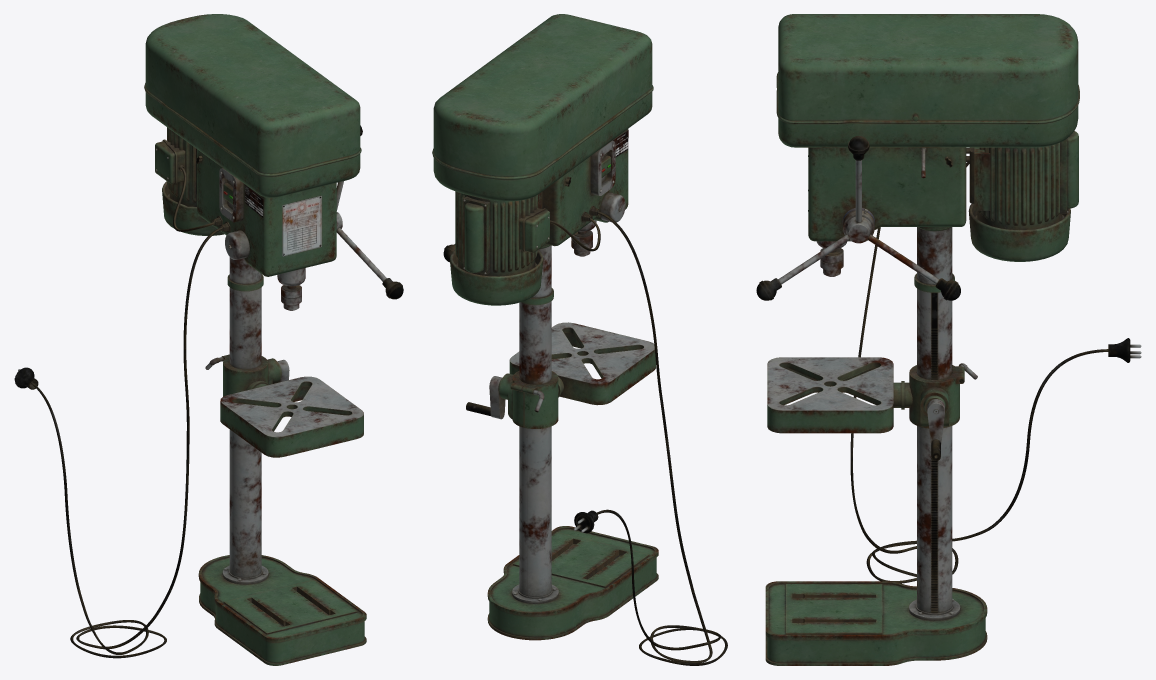
The model's file is old_drill_press.gltf.
The picture shows the model from 3 angles, left to right: view 1: azimuth 30°, elevation 25°; view 2: azimuth 150°, elevation 25°; view 3: azimuth 270°, elevation 25°; orthographic projection. The views are drawn at different scales.
Parts seen in each view (by area): view 1: old_drill_press, old_drill_press_cable; view 2: old_drill_press, old_drill_press_cable; view 3: old_drill_press, old_drill_press_cable.
Part boxes in pixels (x1,y1,x2,y2): old_drill_press: (144,14,403,665); old_drill_press_cable: (14,167,222,658); old_drill_press: (432,14,658,640); old_drill_press_cable: (550,211,727,665); old_drill_press: (756,14,1079,665); old_drill_press_cable: (850,162,1141,583).
Bounding box in the file's own units: 0.5272 × 1.05 × 0.6095.
1 material, 1 textured.
